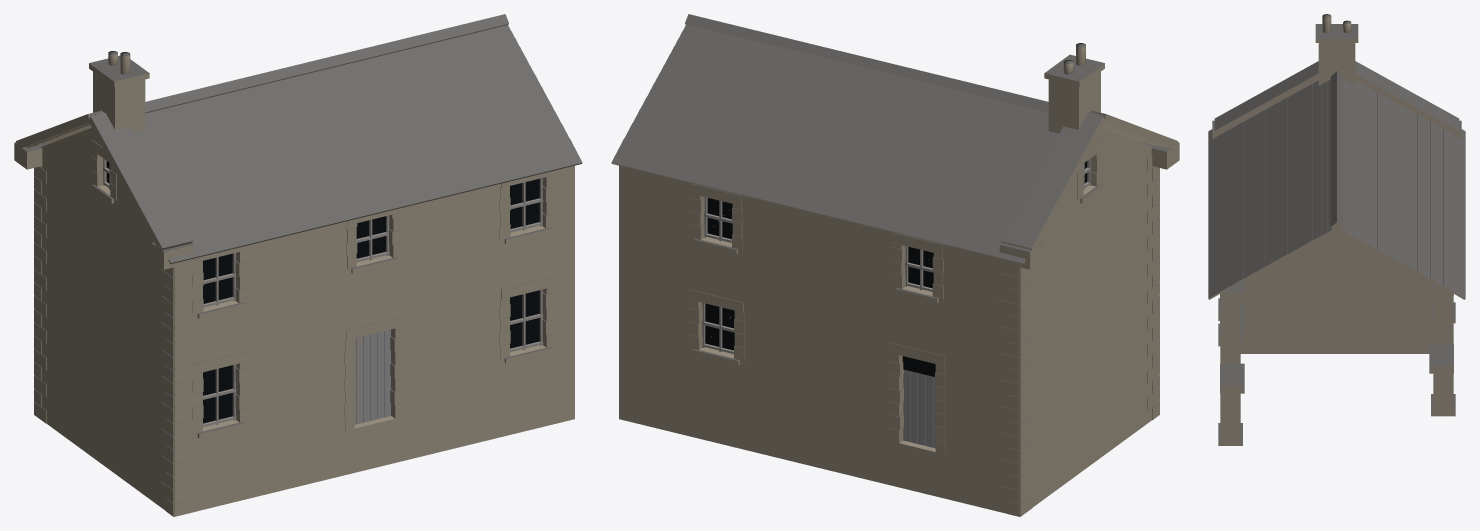
File: context.dales.house_16.glb
3 views of the same model, side by side, from view 1: azimuth 30°, elevation 25°; view 2: azimuth 150°, elevation 25°; view 3: azimuth 270°, elevation 25° (orthographic). The views are drawn at different scales.
Visible parts, largest first — view 1: main__stone_a98, main__slate_666, main__glass_dark, main__paint_998, main__paint_999; view 2: main__stone_a98, main__slate_666, main__glass_dark, main__paint_999, main__paint_998; view 3: main__slate_666, main__stone_a98.
Boxes of the visible parts, x1,y1,x2,y2 form: main__stone_a98: (14,24,582,516); main__slate_666: (15,14,582,503); main__glass_dark: (106,161,539,423); main__paint_998: (103,158,543,426); main__paint_999: (363,329,391,422); main__stone_a98: (611,24,1179,516); main__slate_666: (611,14,1178,503); main__glass_dark: (705,161,1087,376); main__paint_999: (903,369,935,448); main__paint_998: (701,158,1090,353); main__slate_666: (1208,14,1465,441); main__stone_a98: (1208,16,1465,445).
Size of the model in its own units: 9.84 by 9.32 by 6.32.
